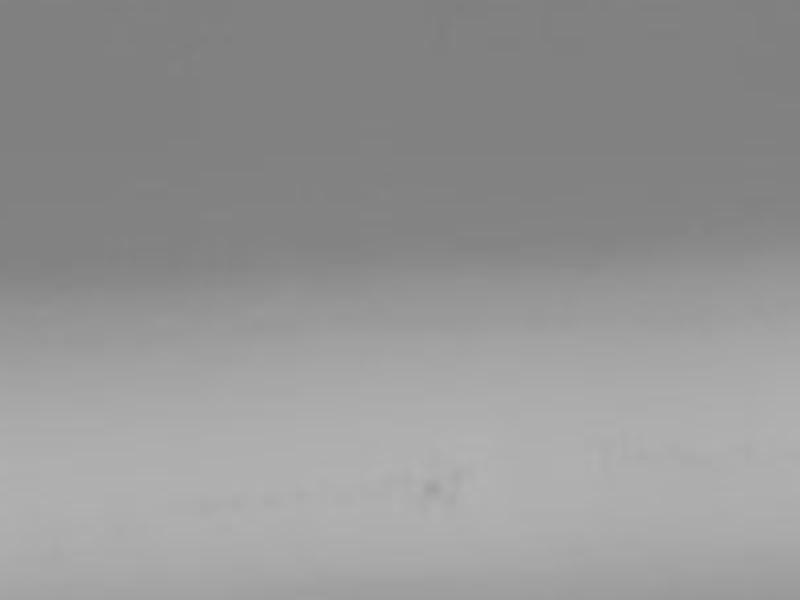defect: (423, 476, 449, 501)
